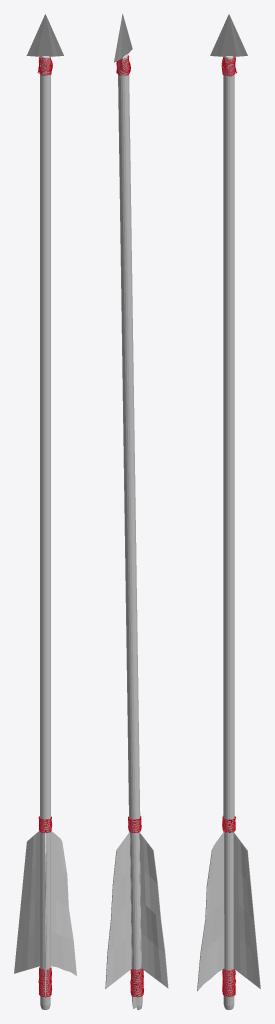
Rendered from wood-arrow.glb.
The picture shows the model from 3 angles, left to right: view 1: azimuth 90°, elevation 25°; view 2: azimuth 150°, elevation 25°; view 3: azimuth 270°, elevation 25°; orthographic projection.
Visible parts, largest first — view 1: arrow; view 2: arrow; view 3: arrow.
Part boxes in pixels (x1,y1,x2,y2): arrow: [14, 14, 76, 1009]; arrow: [105, 14, 168, 1009]; arrow: [197, 14, 260, 1009].
Bounding box in the file's own units: 0.0404 × 0.7418 × 0.0429.
